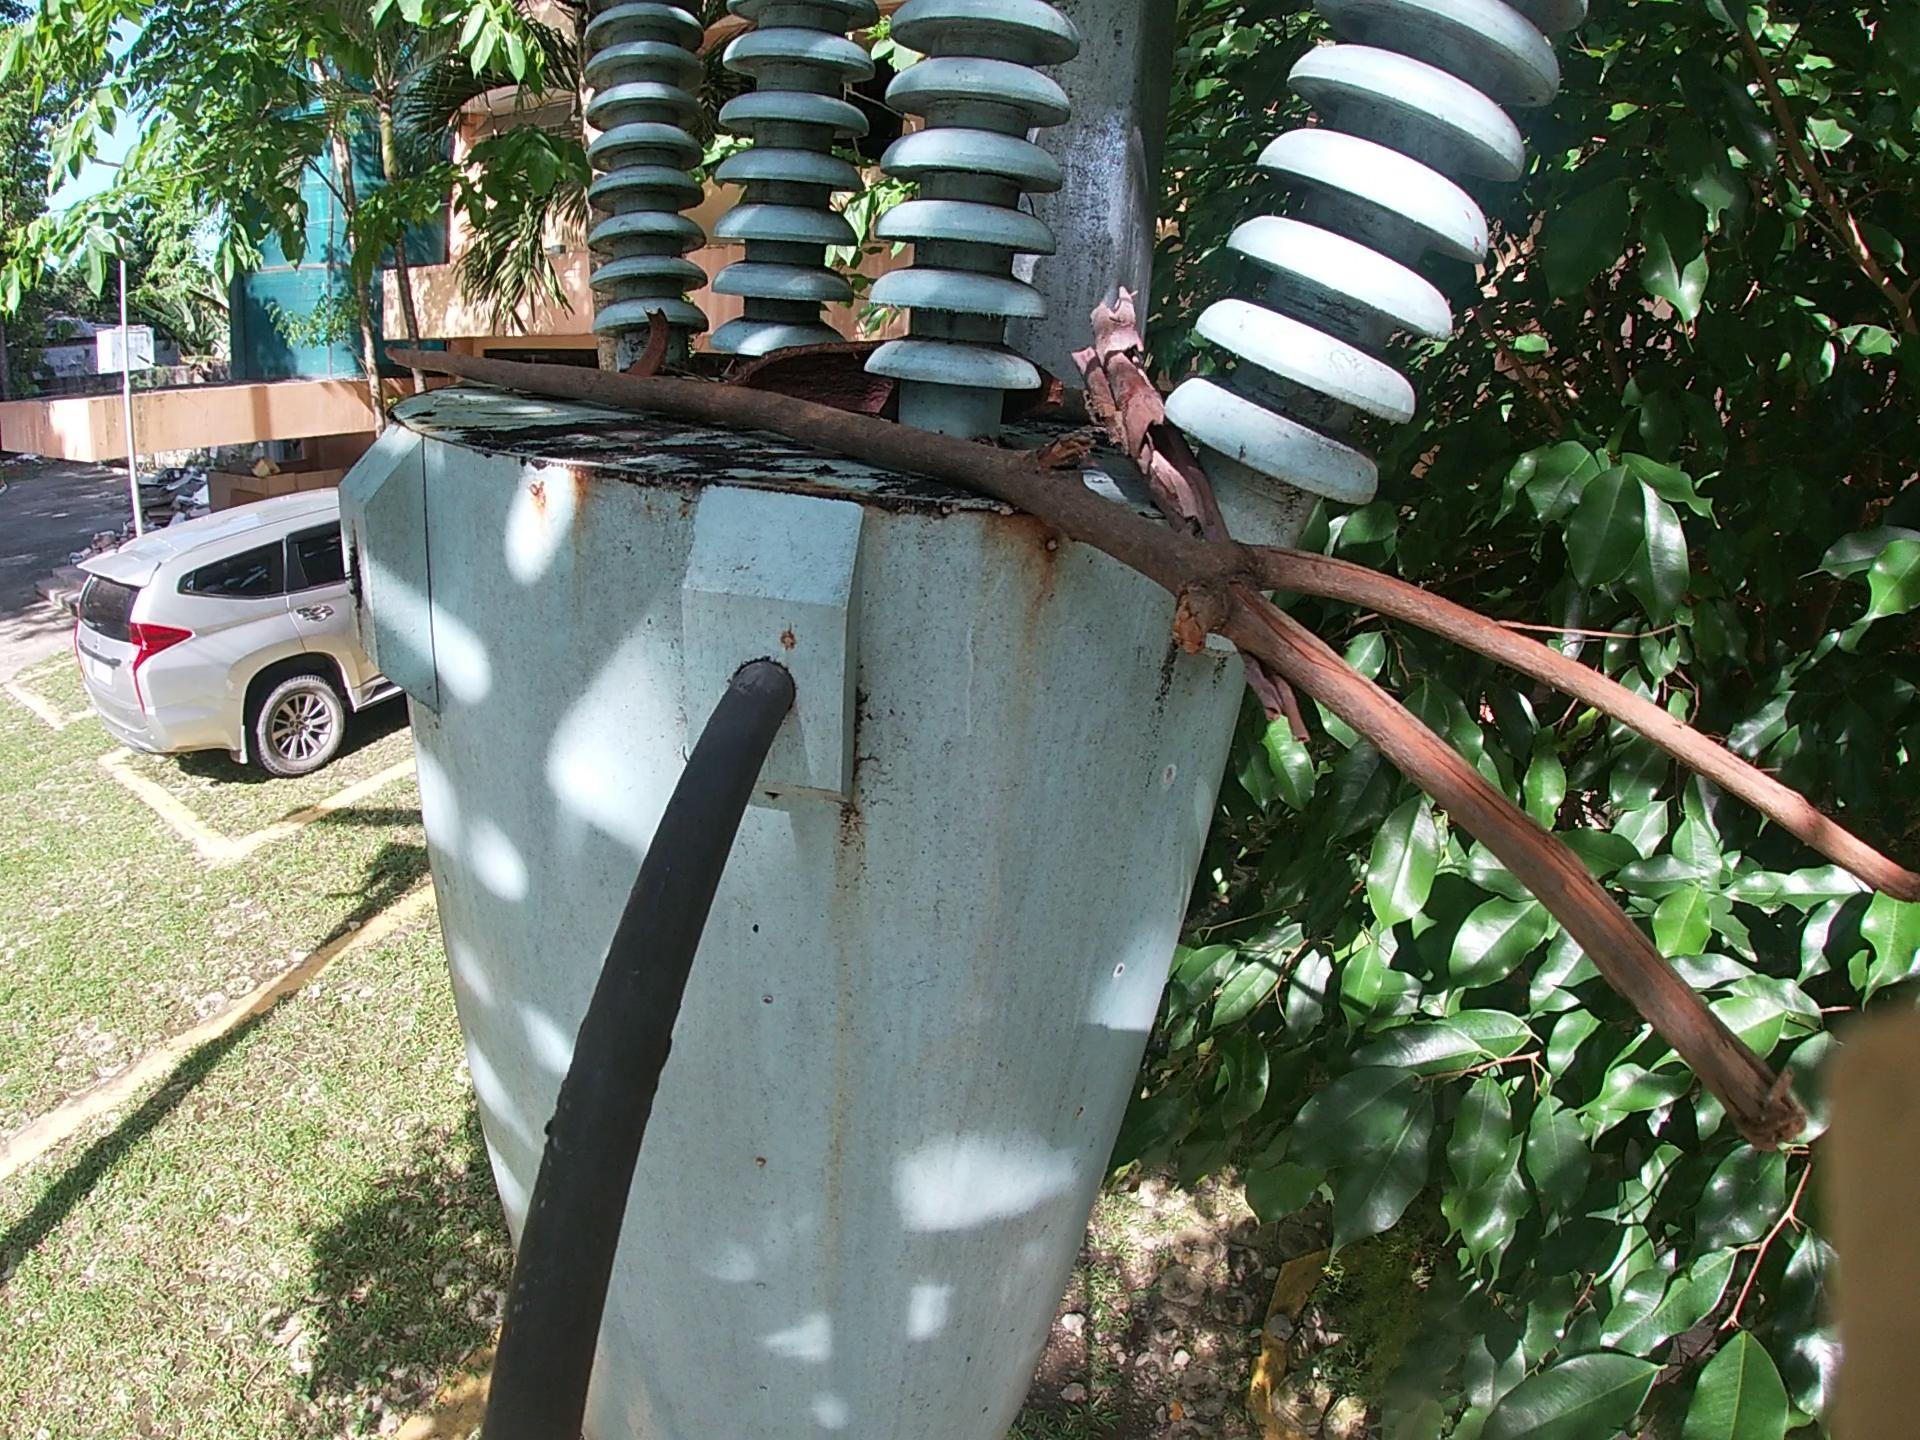mahogany fruit: (720, 330, 943, 413), (615, 309, 679, 375), (1008, 362, 1079, 408)
tree branch: (382, 330, 1911, 1168), (1066, 292, 1352, 784)
